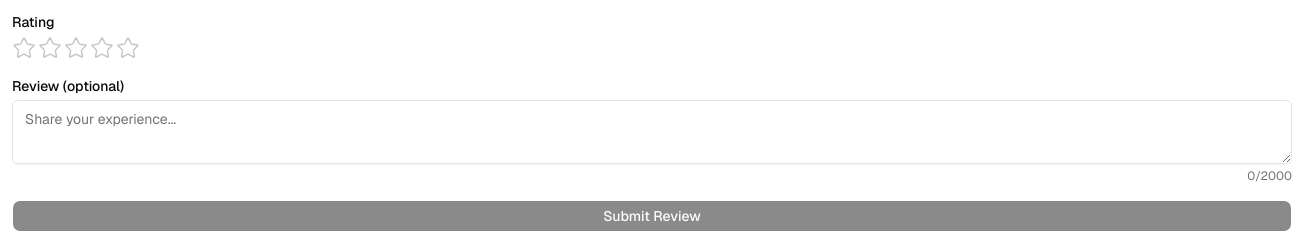
Test: ReviewForm › enables submit button after selecting a rating
Step 1. Click the button named "Rate 4 out of 5 stars" → {"x": 102, "y": 48}, box [90,36,114,60]
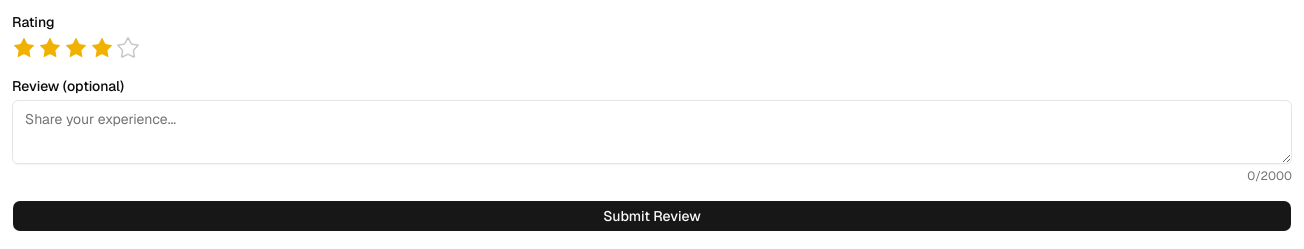
Expected: the button "Submit Review" is enabled, [12,200,1292,232]
